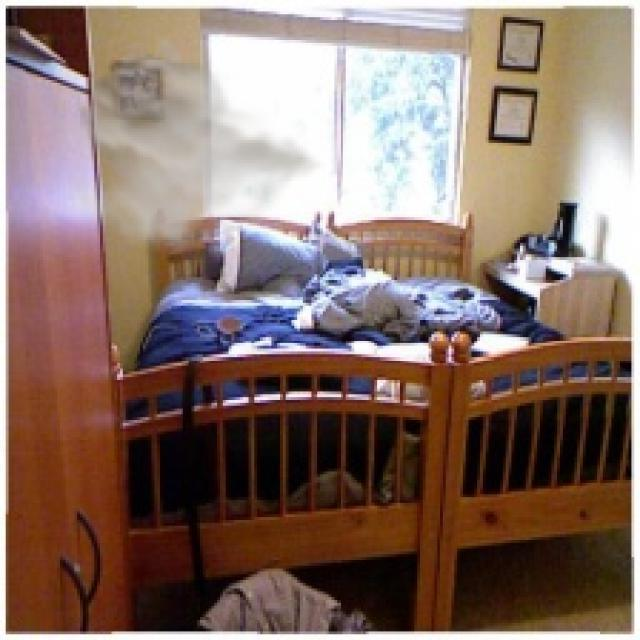Smoke: (54, 34, 326, 260)
